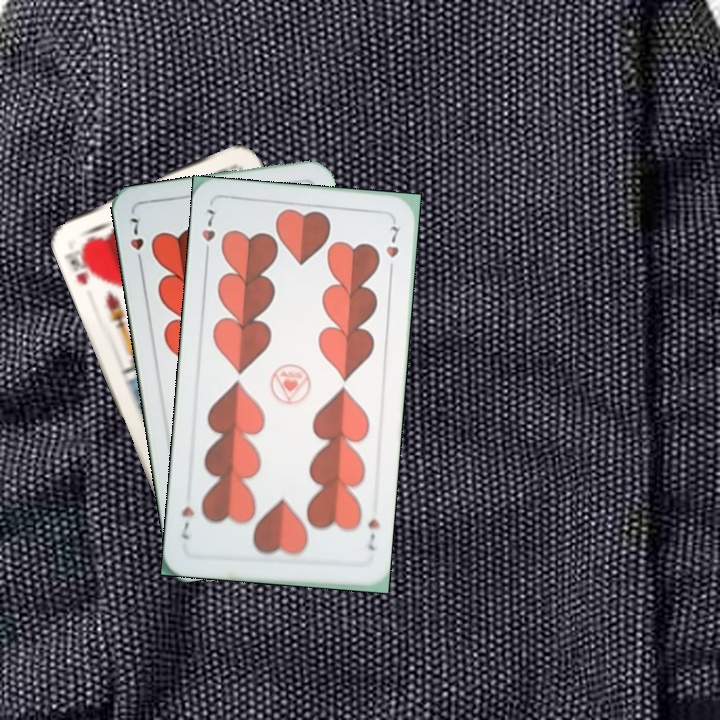H7: (197, 203, 218, 261), (126, 213, 146, 269), (363, 514, 382, 554)
HK: (66, 240, 101, 287)
